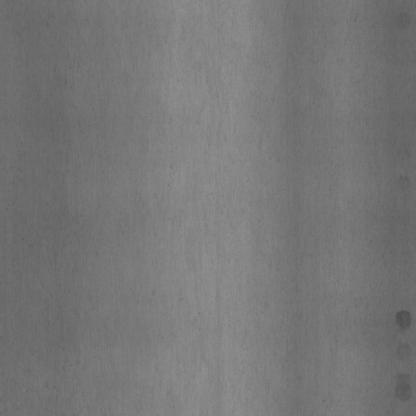oil_spot: (393, 367, 412, 407), (394, 303, 413, 334)
